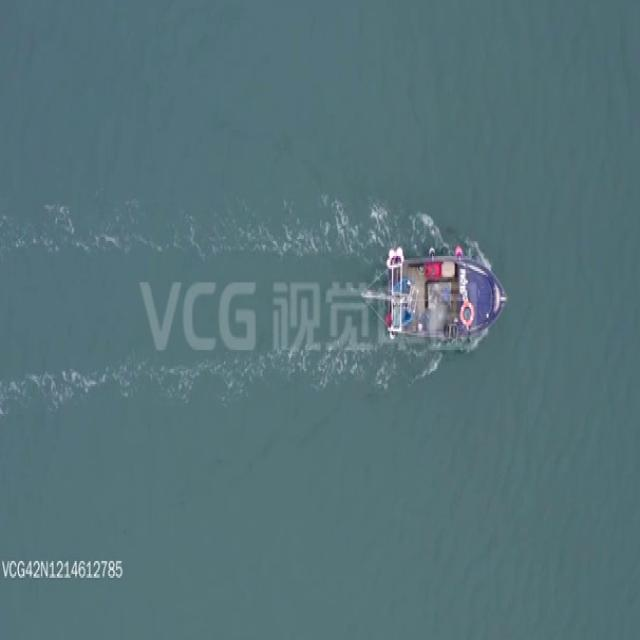houseboat: (366, 244, 507, 340)
